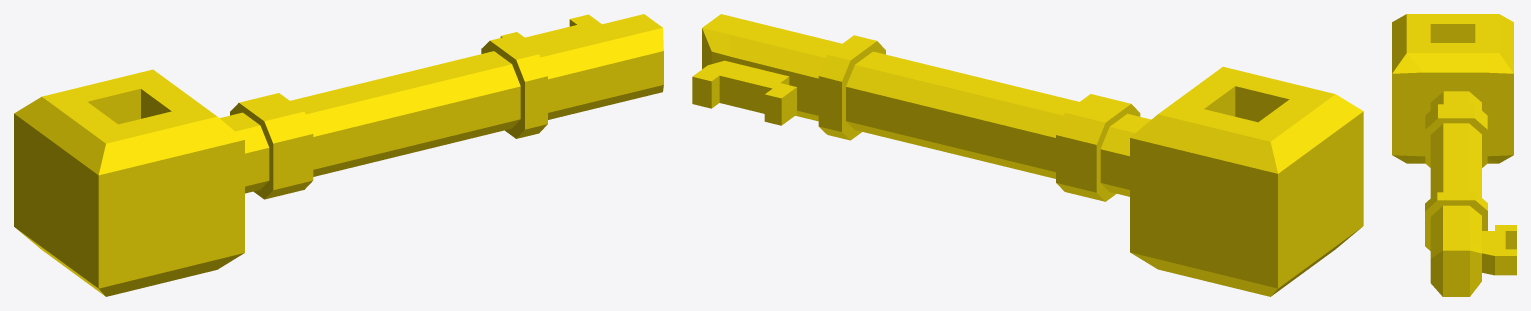
Rendered from FNG_key.fbx.
3 renders of one model, left to right at view 1: azimuth 30°, elevation 25°; view 2: azimuth 150°, elevation 25°; view 3: azimuth 270°, elevation 25°, orthographic. The views are drawn at different scales.
Parts seen in each view (by area): view 1: Cube; view 2: Cube; view 3: Cube.
Boxes of the visible parts, x1=… form: Cube: x1=14, y1=14, x2=663, y2=296; Cube: x1=692, y1=14, x2=1363, y2=296; Cube: x1=1392, y1=14, x2=1516, y2=296.
Bounding box in the file's own units: 285 × 69.71 × 71.42.
